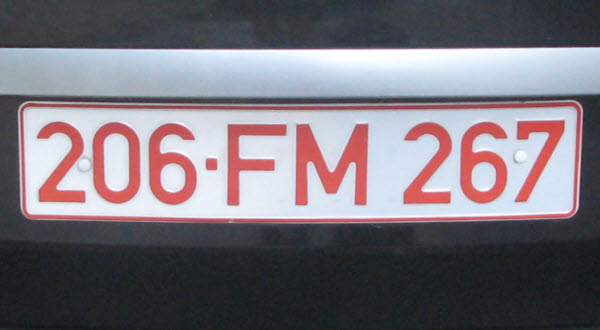license_plate: (18, 103, 582, 223)
